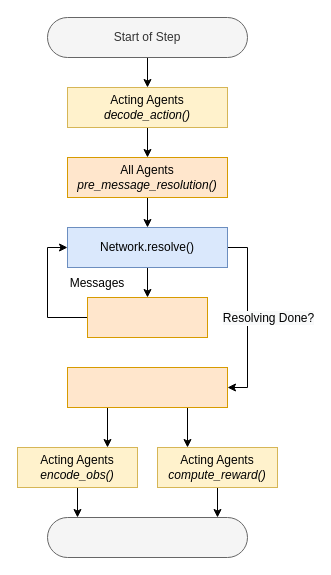
Some shapes in this 331 by 575 pixel diagram are drawn without their labels. Each missing label, with the centre of its shape:
"All Agents handle_message()" belongs at (x=147, y=317).
"All Agents post_message_resolution()" belongs at (x=147, y=387).
"End of Step" belongs at (x=147, y=537).
